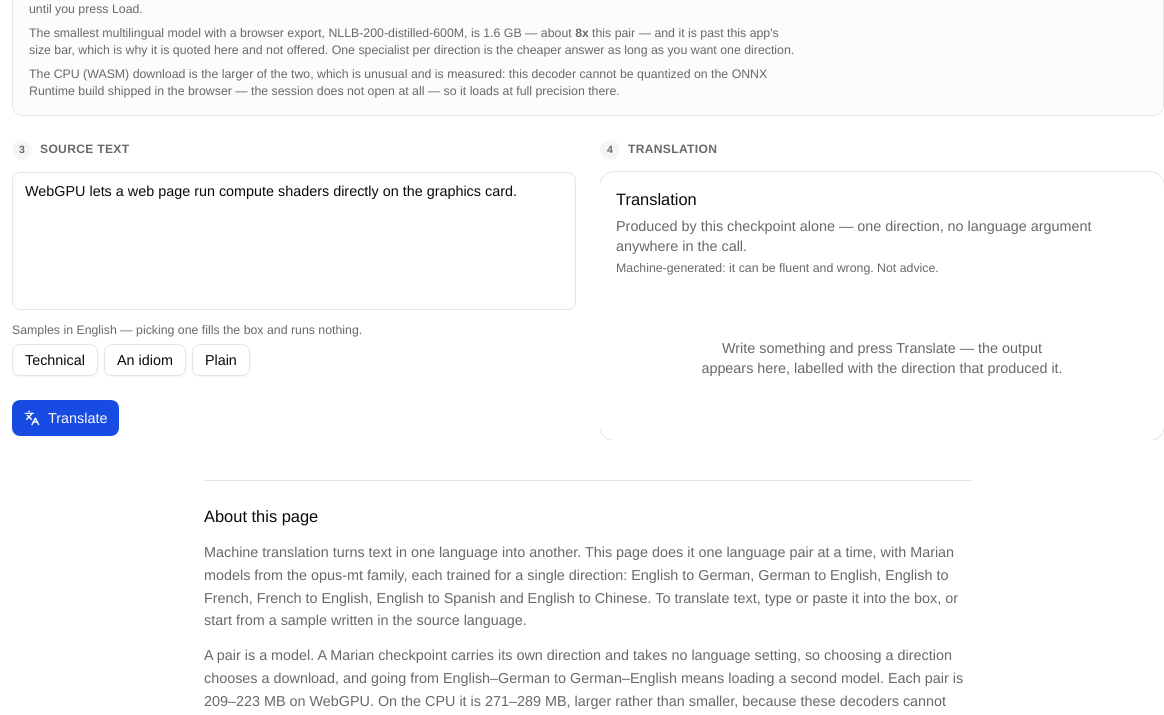
TranslationPage › runs nothing when a sample is picked — it only fills the box
(page scrolled)
Click the button "An idiom": (145, 360) [104,344,186,376]
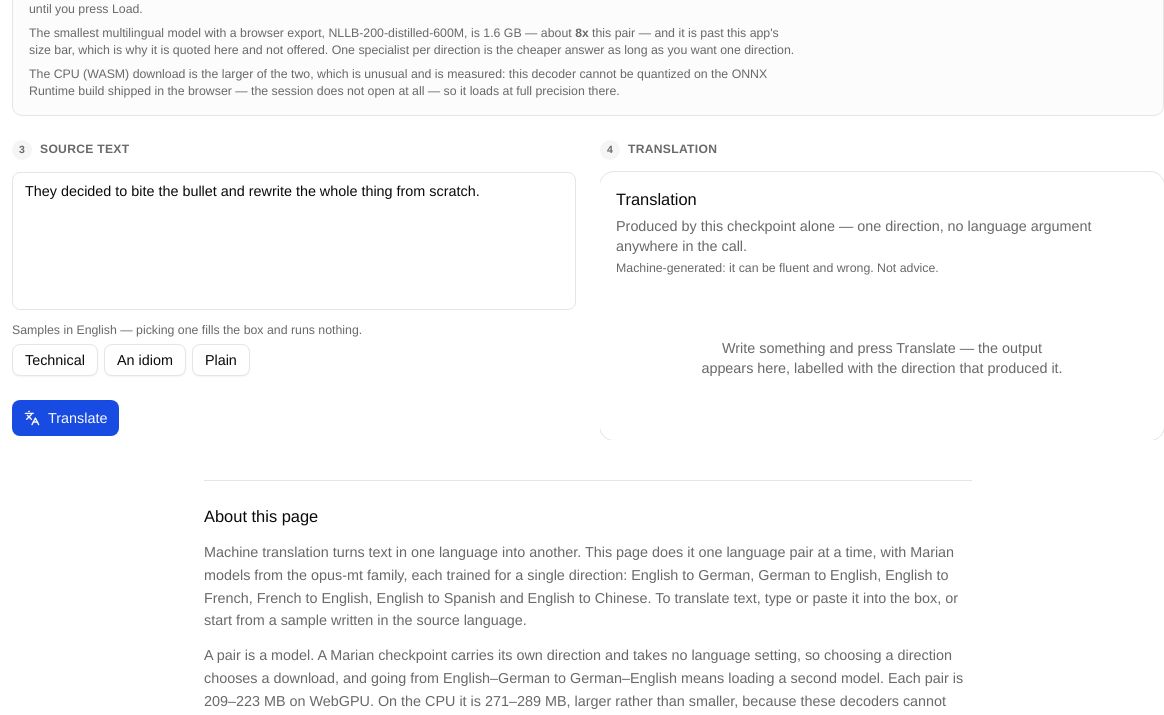
Now the text box holds "They decided to bite the bullet and rewrite the whole thing from scratch.", box [12,172,576,310]
